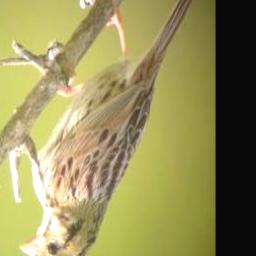Sparrow: (18, 0, 208, 256)
